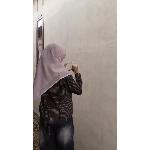Golok: (66, 59, 82, 87)
